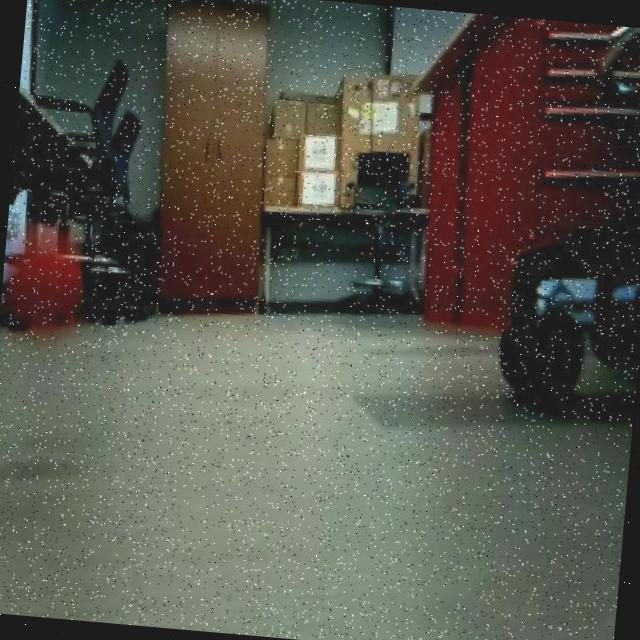ping-pong-ball: (7, 226, 86, 342)
